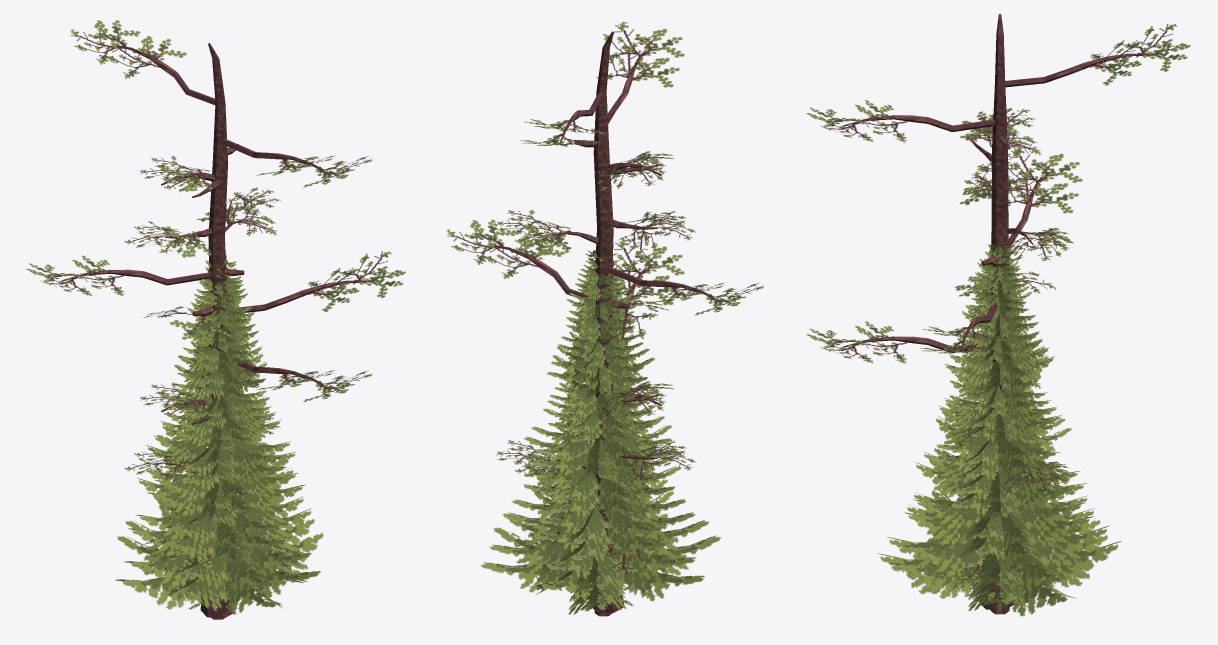
File: big_tree_01.glb
3 renders of one model, left to right at view 1: azimuth 30°, elevation 25°; view 2: azimuth 150°, elevation 25°; view 3: azimuth 270°, elevation 25°, orthographic. The views are drawn at different scales.
Parts seen in each view (by area): view 1: spiky_tree, big_tree_01, tree_01; view 2: spiky_tree, big_tree_01, tree_01; view 3: spiky_tree, big_tree_01, tree_01.
Part boxes in pixels (x1=…): spiky_tree: x1=115, y1=255, x2=323, y2=612; big_tree_01: x1=26, y1=20, x2=405, y2=619; tree_01: x1=124, y1=269, x2=301, y2=571; spiky_tree: x1=480, y1=248, x2=721, y2=614; big_tree_01: x1=447, y1=21, x2=763, y2=616; tree_01: x1=496, y1=261, x2=696, y2=576; spiky_tree: x1=877, y1=243, x2=1121, y2=616; big_tree_01: x1=806, y1=14, x2=1190, y2=614; tree_01: x1=940, y1=354, x2=1073, y2=599.
Bounding box in the file's own units: 44.84 × 69.33 × 43.47.
15 materials, 15 textured.
